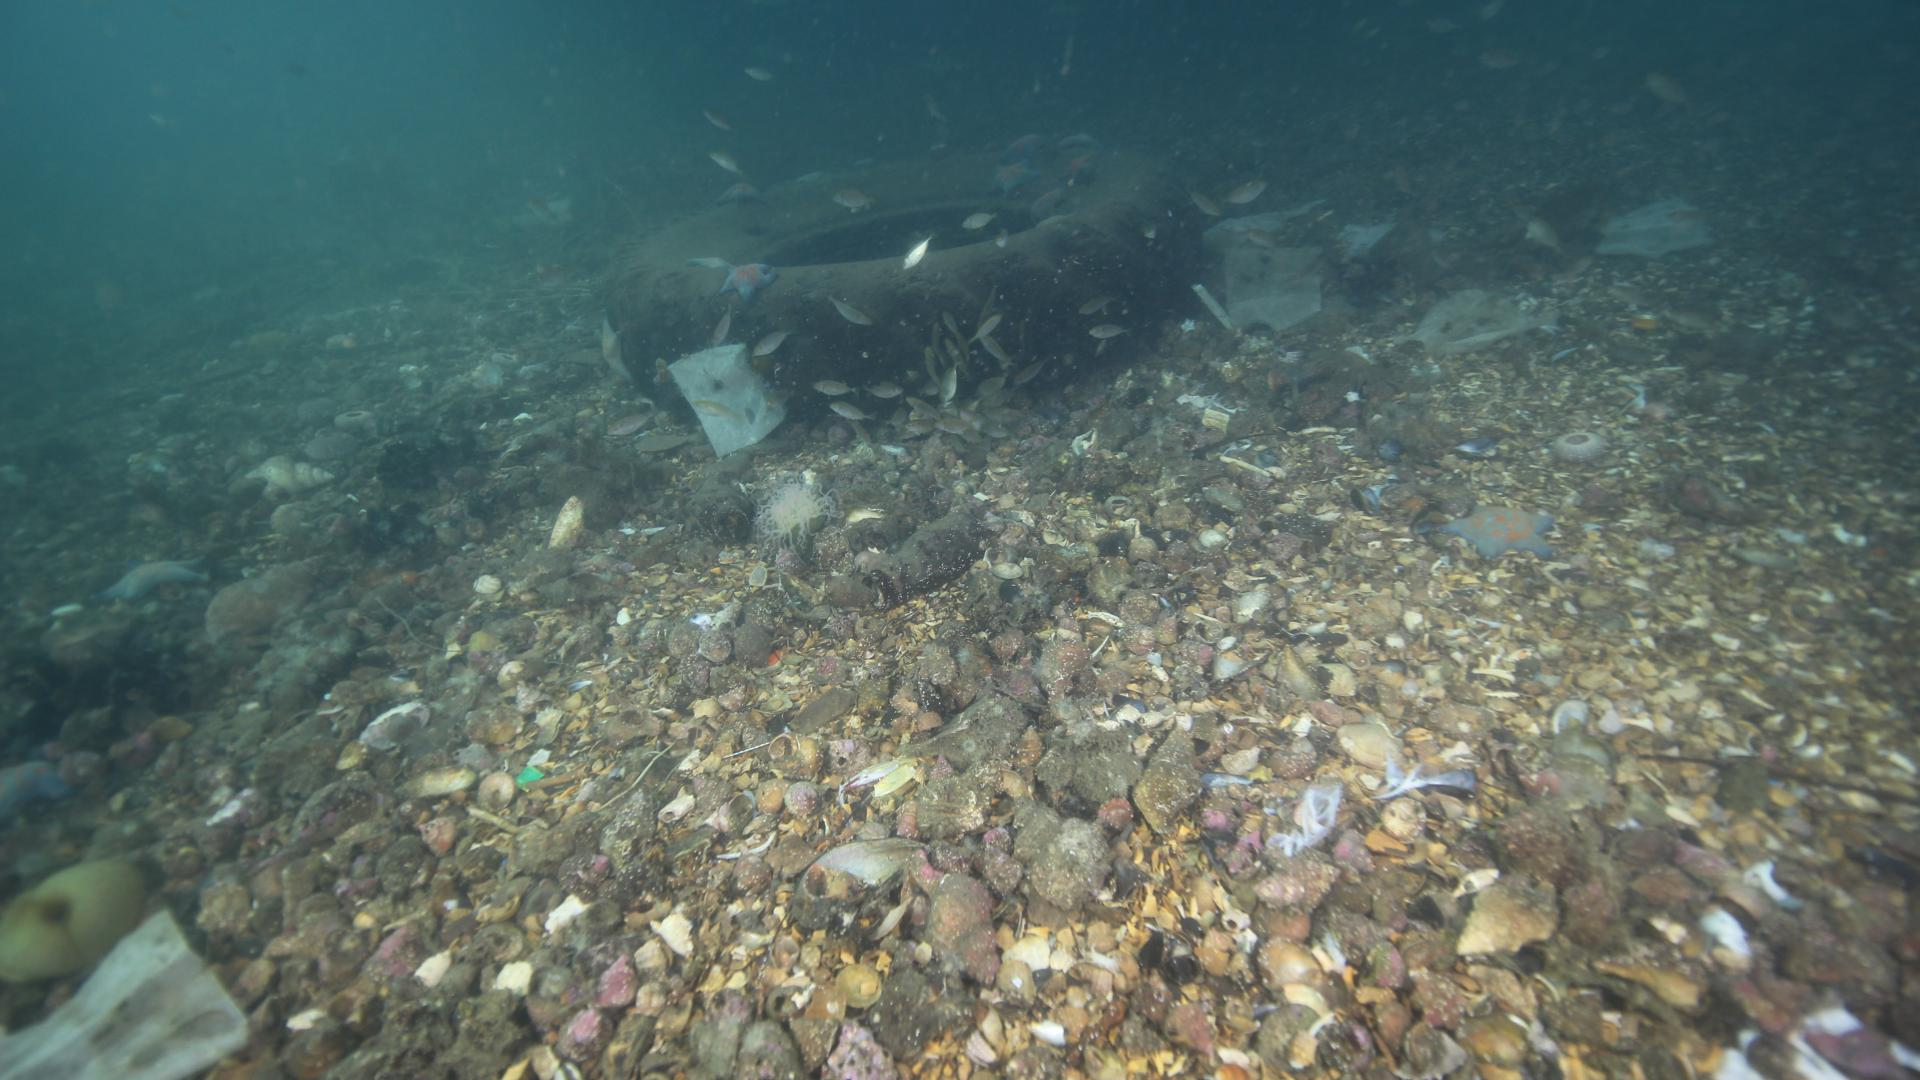tire: (600, 142, 1203, 425)
